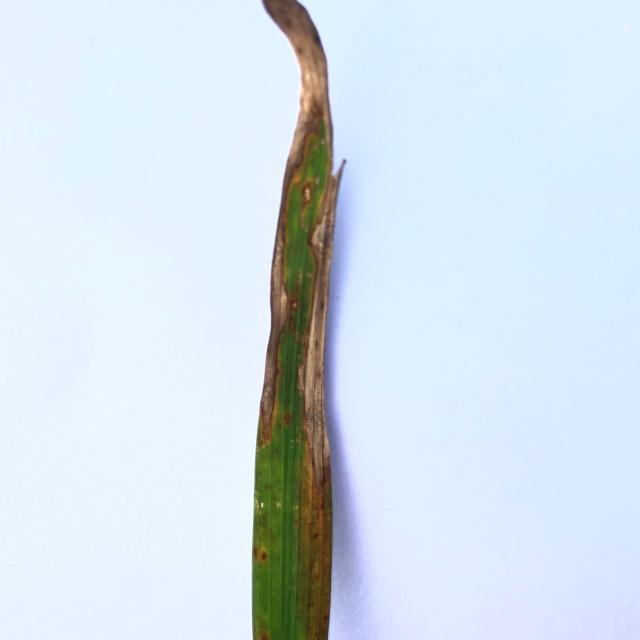leaf blight: (298, 185, 366, 640), (236, 0, 357, 167), (248, 193, 286, 453)
